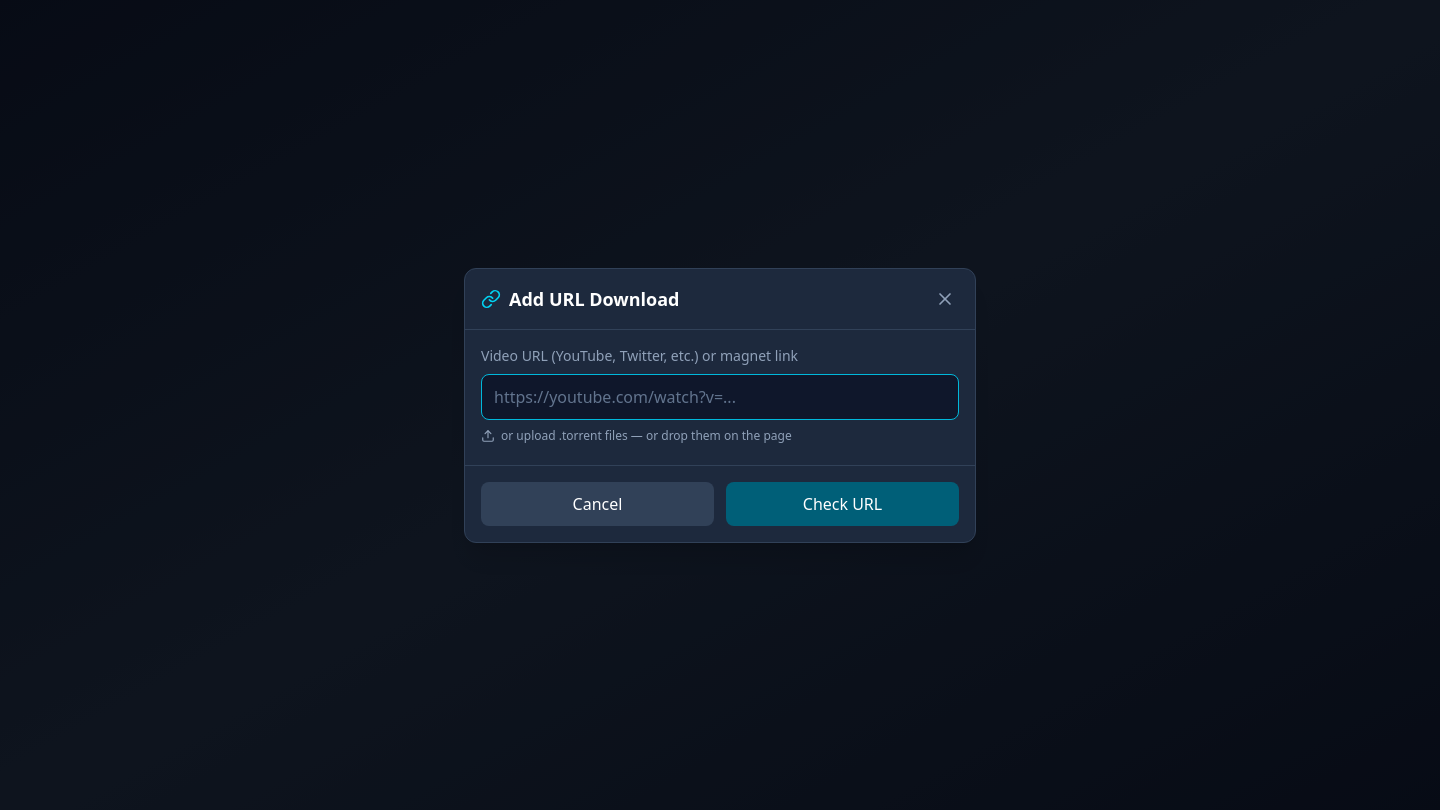
Test: AddUrlModal - URL check and download › an unsupported URL shows the server's reason, a failed check a generic one
Type "https://example.com/a" into the field with placeholder "https://youtube.com/watch?v=...". click: [720, 396]
box: x1=481 y1=374 x2=959 y2=420
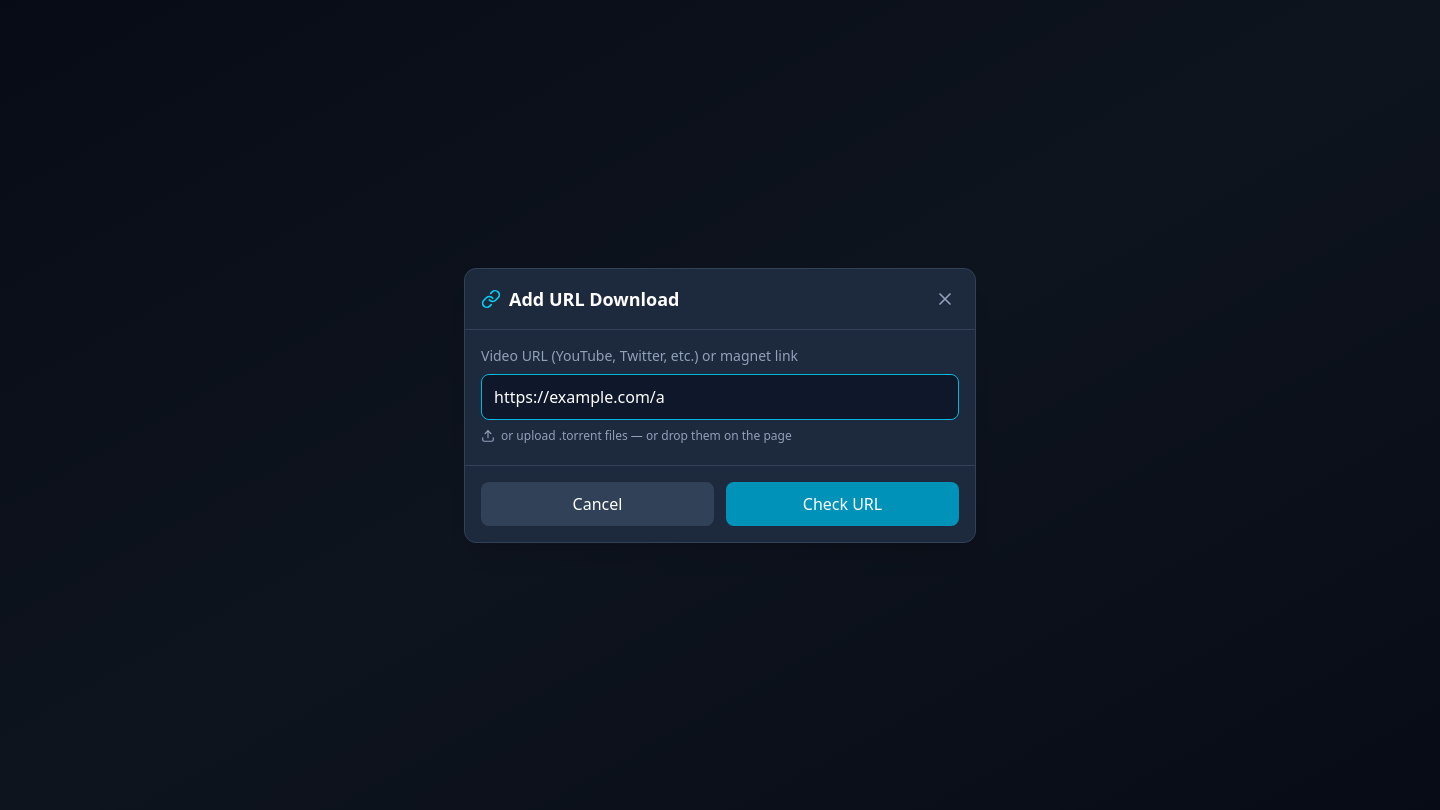
Click the button "Check URL". click: [842, 504]
box: x1=726 y1=482 x2=959 y2=526
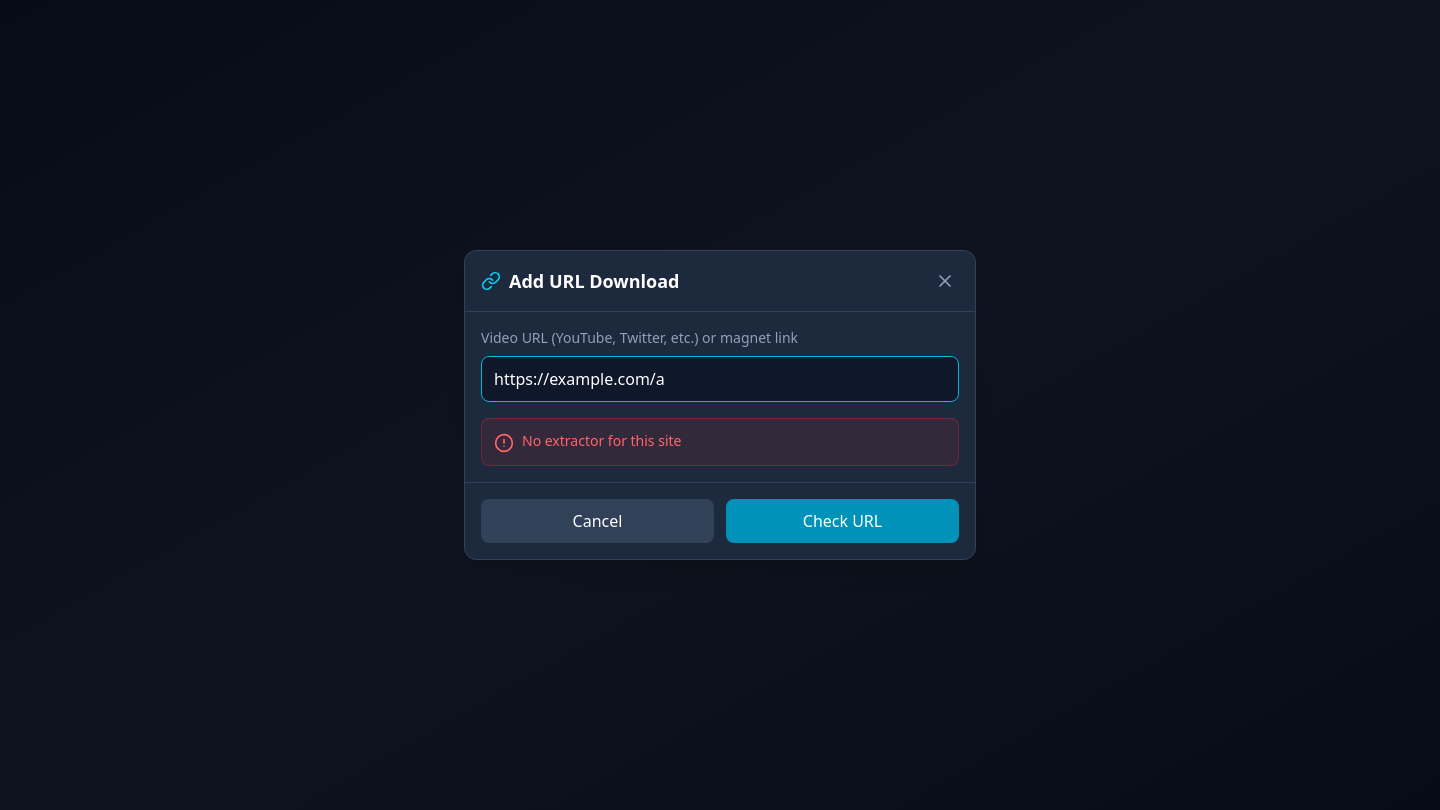
Expected: the text "No extractor for this site" is shown, x1=522 y1=431 x2=682 y2=451
Click the button "Check URL". click: [842, 521]
box: x1=726 y1=499 x2=959 y2=543
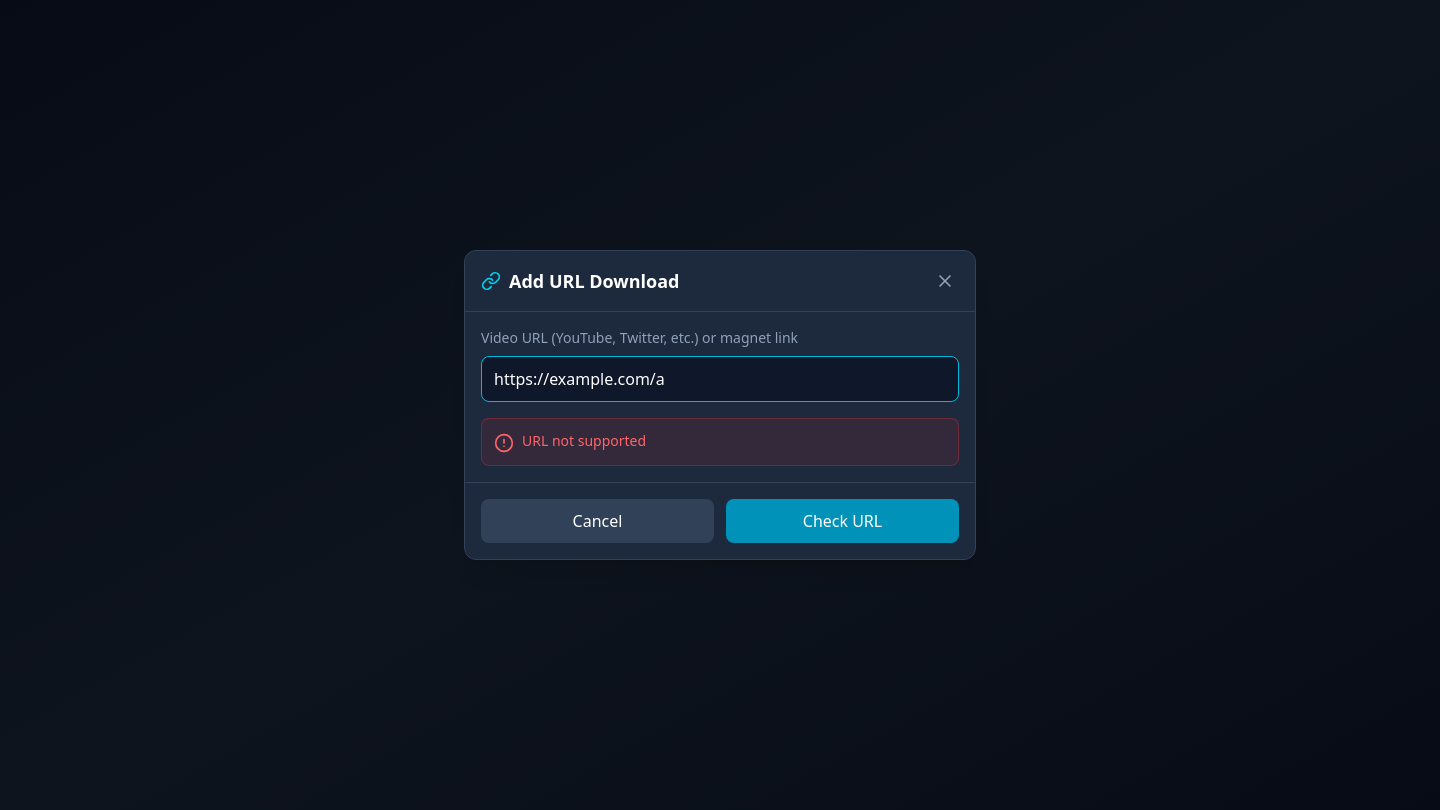
Expected: the text "URL not supported" is shown, x1=522 y1=431 x2=646 y2=451
Click the button "Check URL". click: [842, 521]
box: x1=726 y1=499 x2=959 y2=543
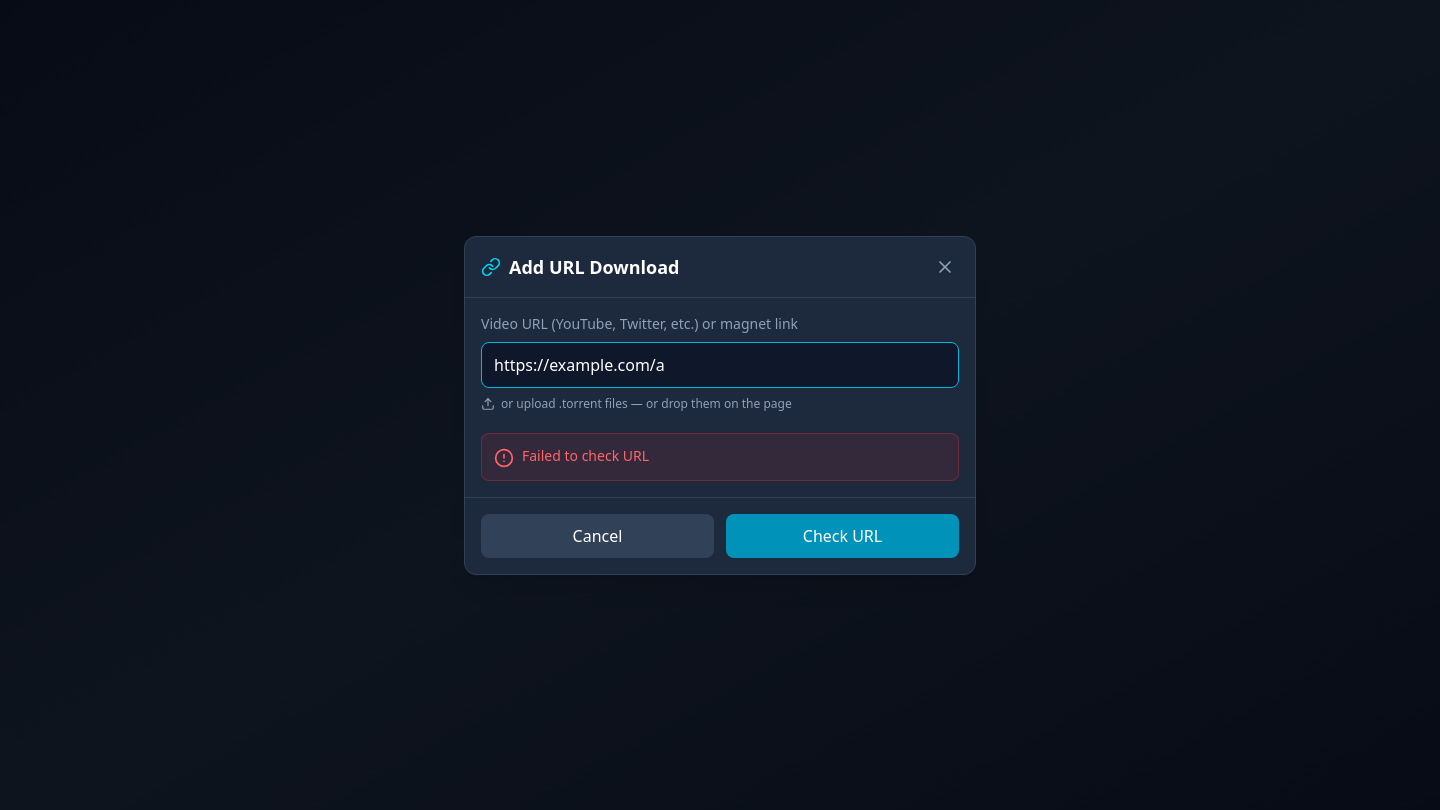
Expected: the text "Failed to check URL" is shown, x1=522 y1=446 x2=649 y2=466
